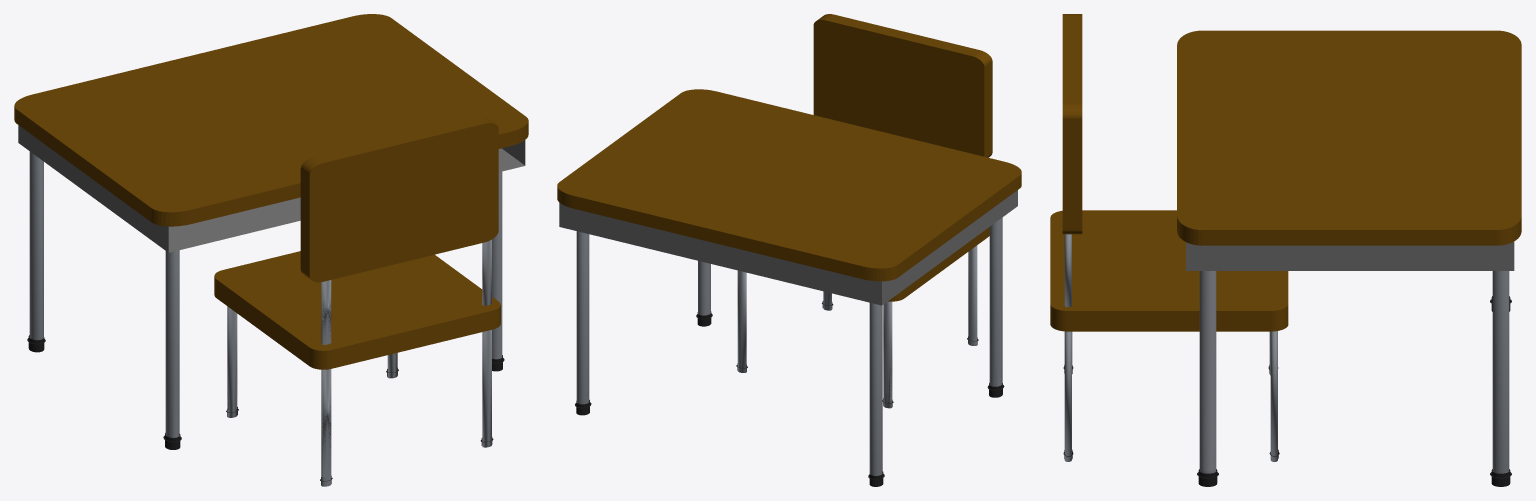
The model's file is desk_chair.fbx.
The picture shows the model from 3 angles, left to right: view 1: azimuth 30°, elevation 25°; view 2: azimuth 150°, elevation 25°; view 3: azimuth 270°, elevation 25°; orthographic projection. The views are drawn at different scales.
Visible parts, largest first — view 1: 실린더.008, 큐브.003; view 2: 실린더.008, 큐브.003; view 3: 실린더.008, 큐브.003.
Part boxes in pixels (<box>): 실린더.008: <box>14,14,528,449</box>; 큐브.003: <box>214,116,500,486</box>; 실린더.008: <box>557,89,1021,486</box>; 큐브.003: <box>736,14,992,408</box>; 실린더.008: <box>1177,30,1521,486</box>; 큐브.003: <box>1050,14,1288,461</box>.
Size of the model in its own units: 292 by 242 by 291.
